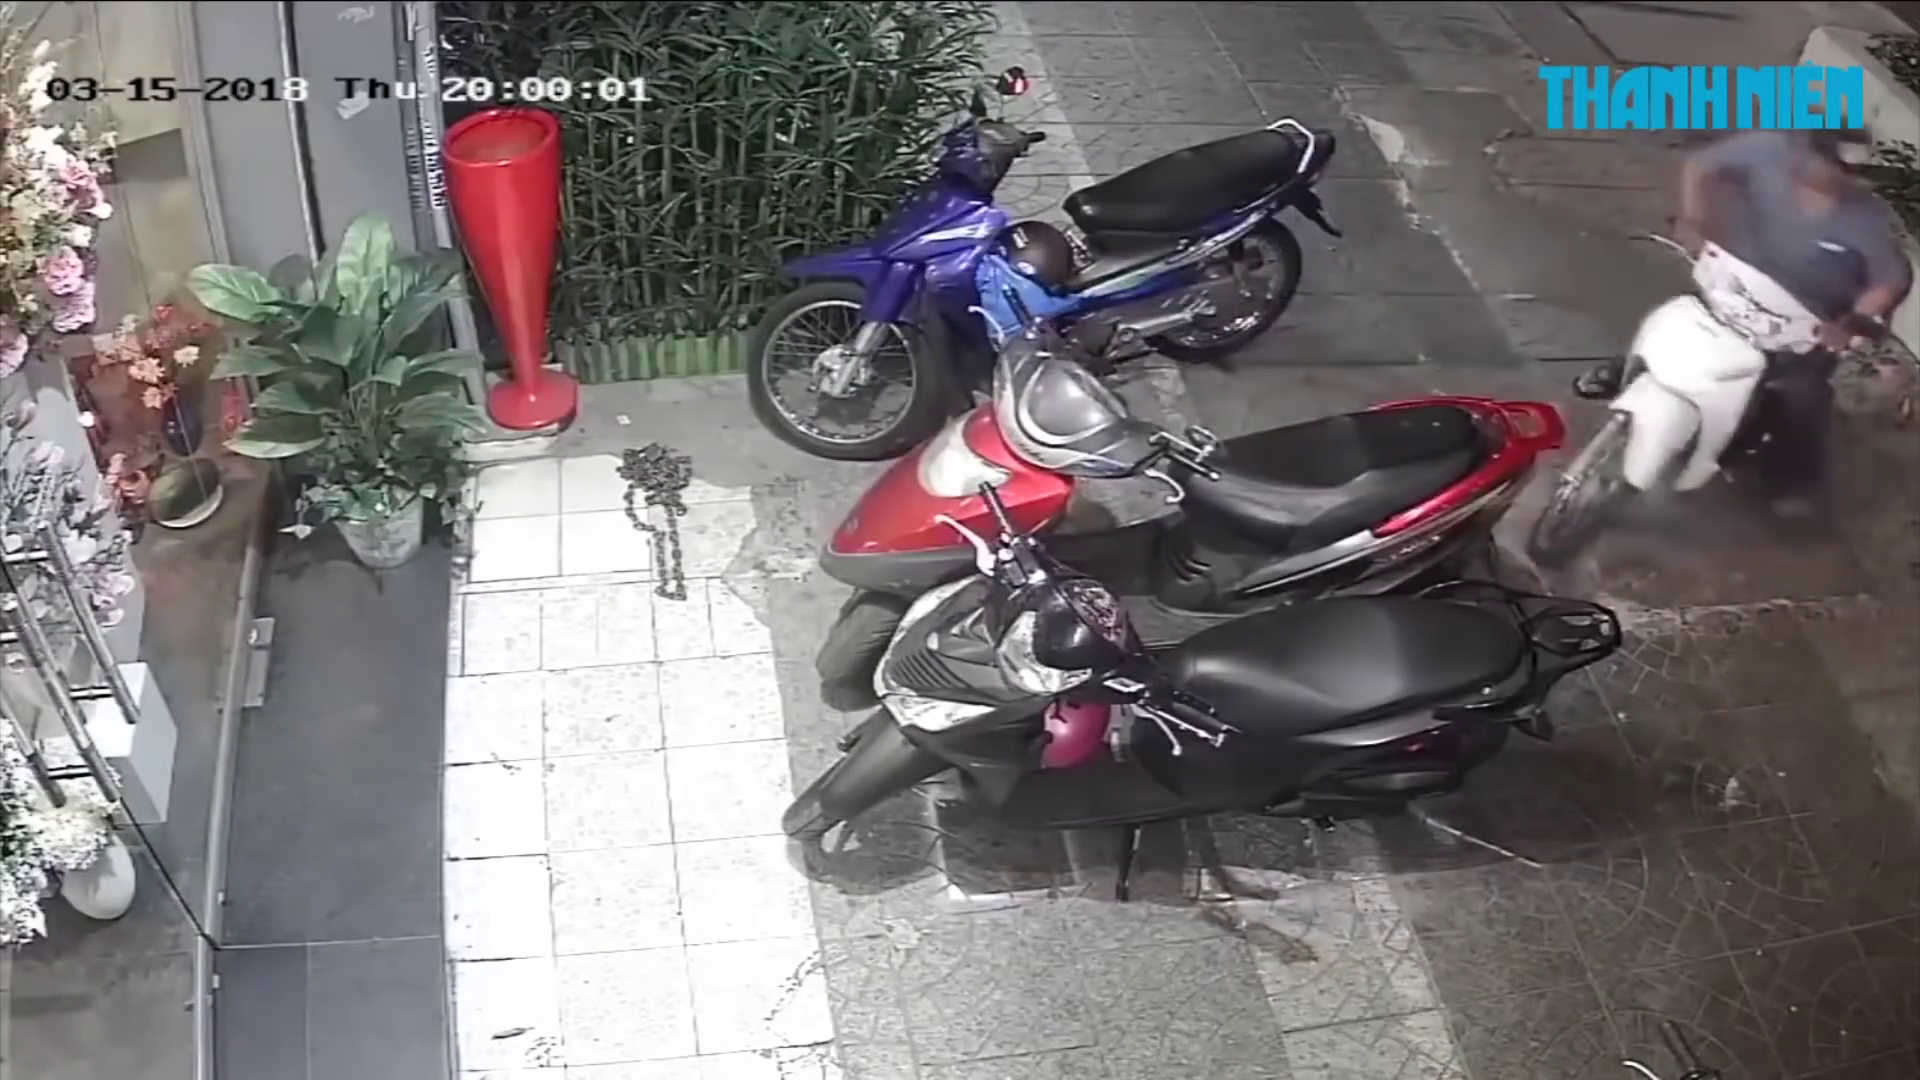Motorcycle: (778, 456, 1625, 898), (814, 335, 1569, 696), (744, 66, 1345, 463), (1530, 138, 1919, 563)
